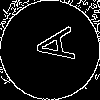A: (25, 25, 76, 66)
